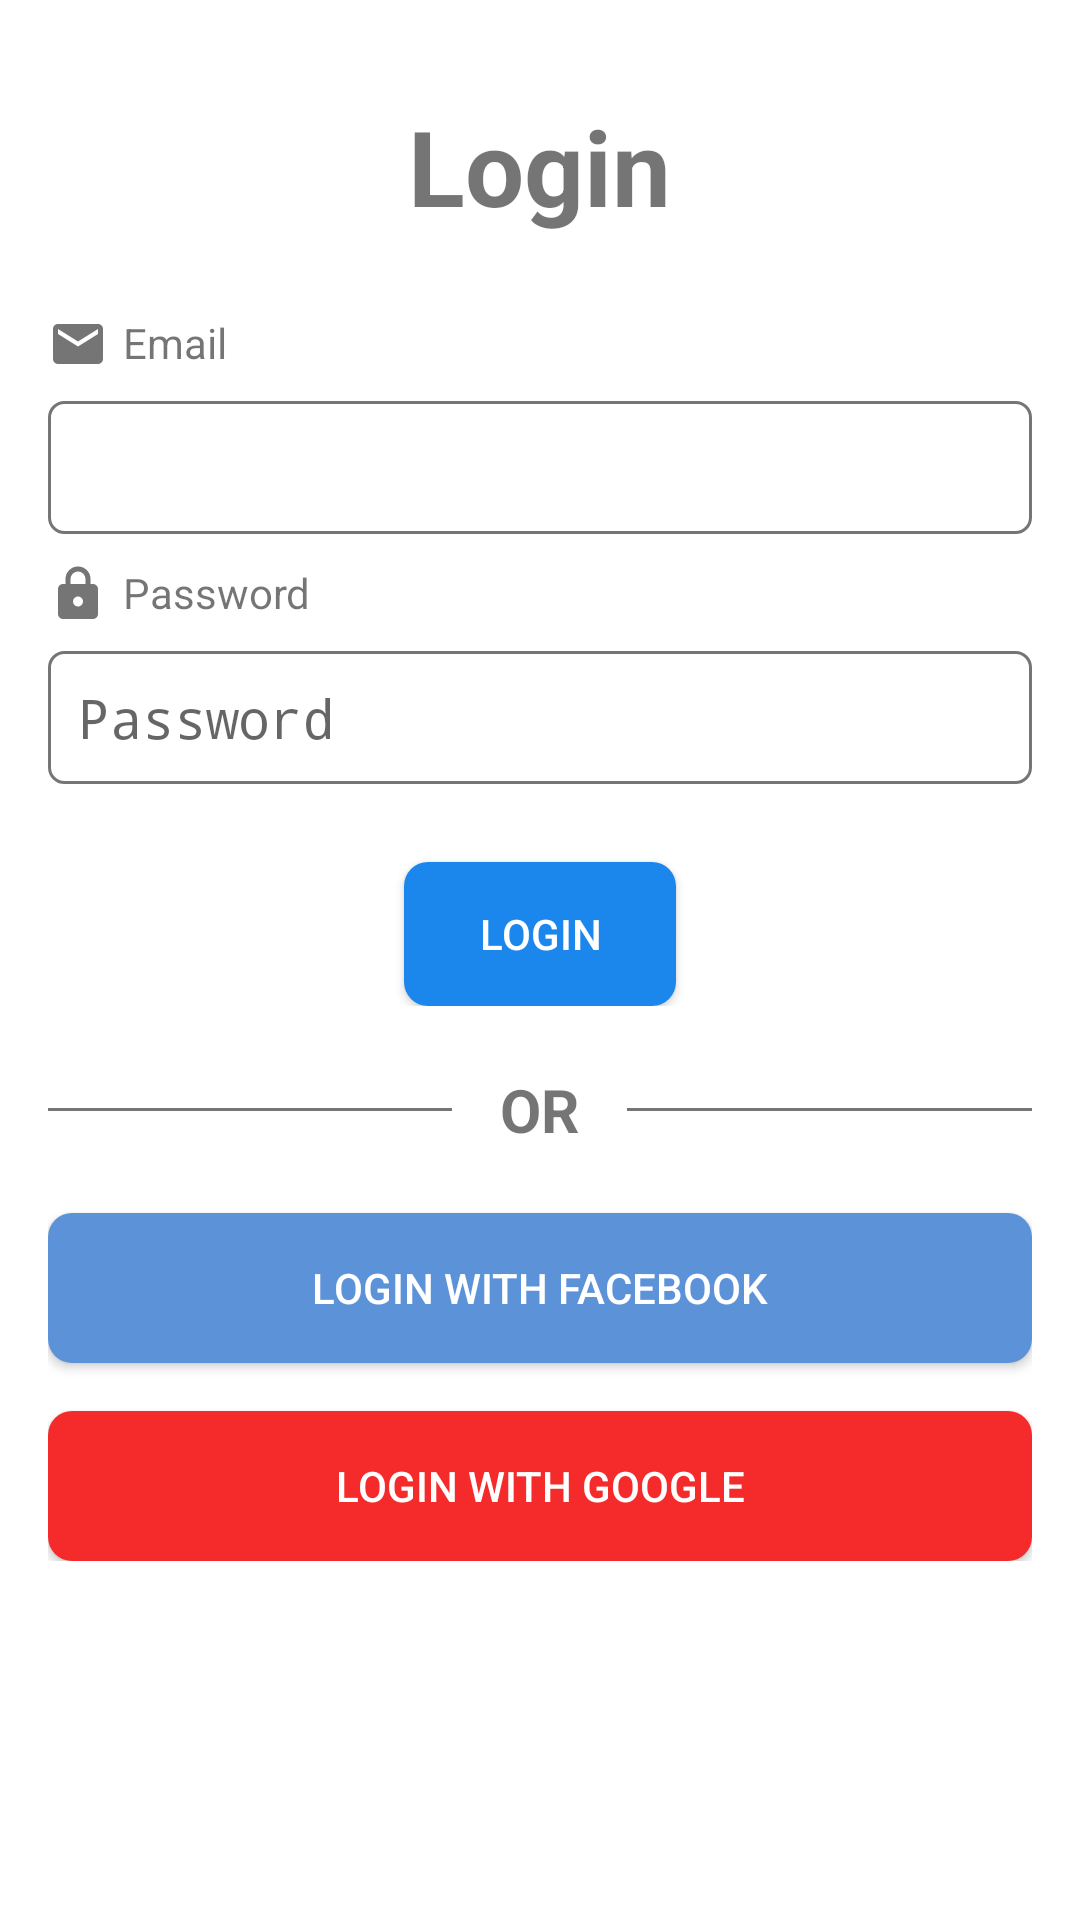

Screen size 1080x1920. Icon name, then its box in pixels as [left=x1, top=y1, right=x2, bottom=y2]:
lock: [left=58, top=566, right=98, bottom=619]
